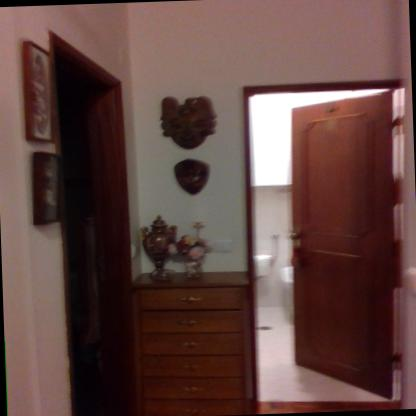semi: (234, 69, 416, 414)
